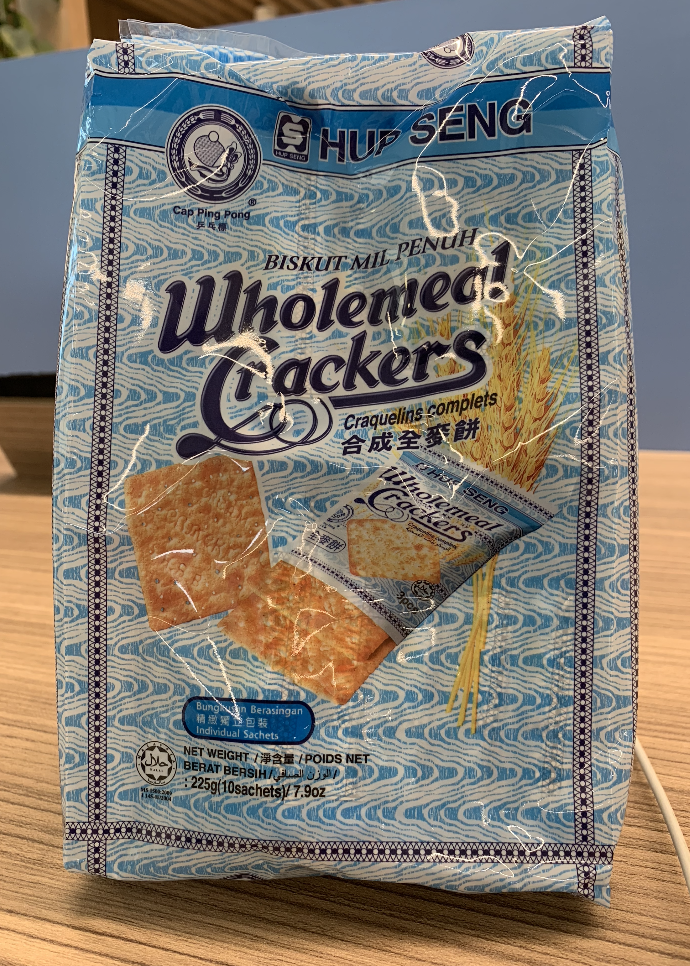crackers_200g-299g: (125, 78, 586, 854)
